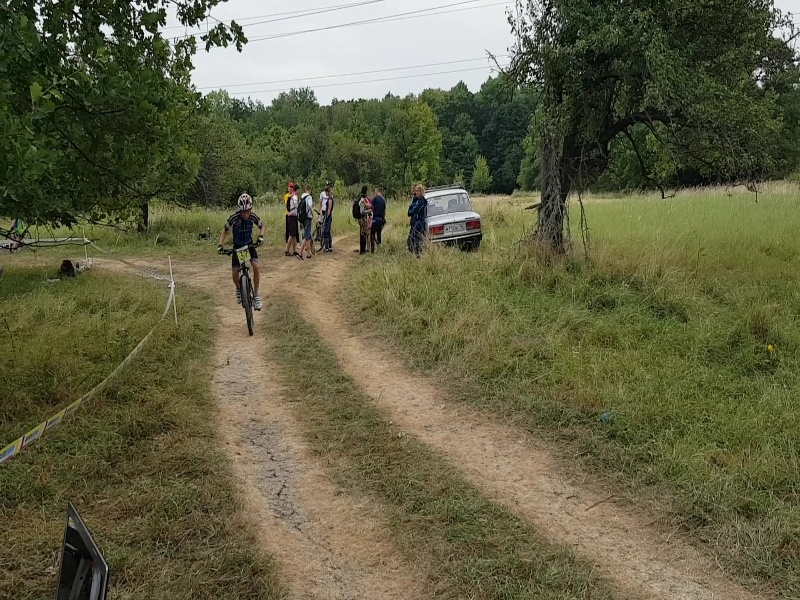number: (235, 243, 254, 265)
